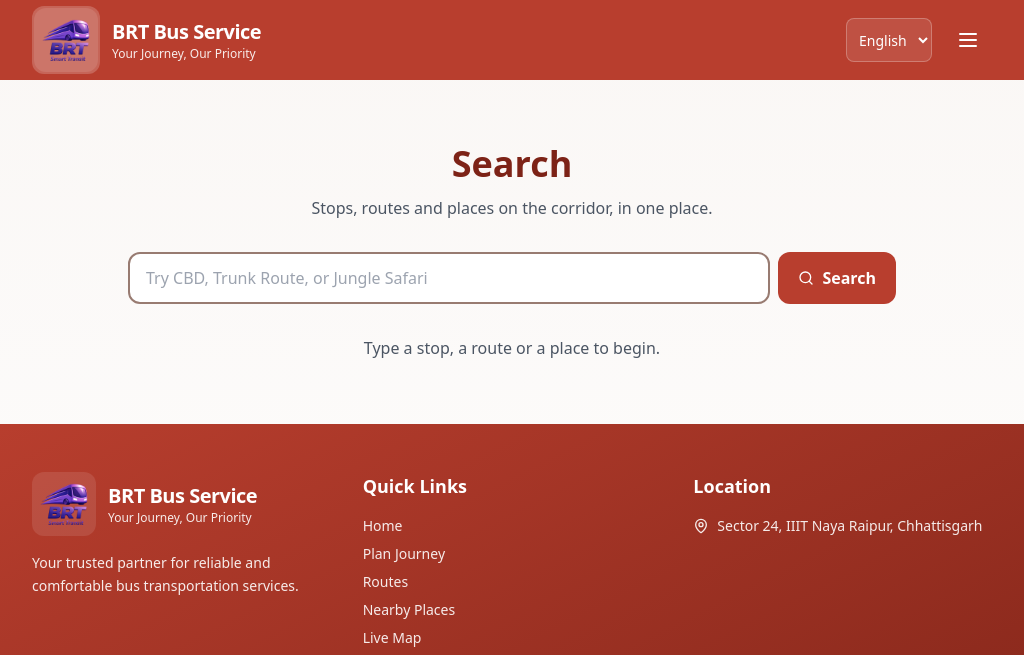
Test: looking for something › runs a search typed into the box
Type "Trunk" into the search field named "Search stops, routes and places".
click(449, 278); type("Trunk")  # box [128, 252, 770, 304]
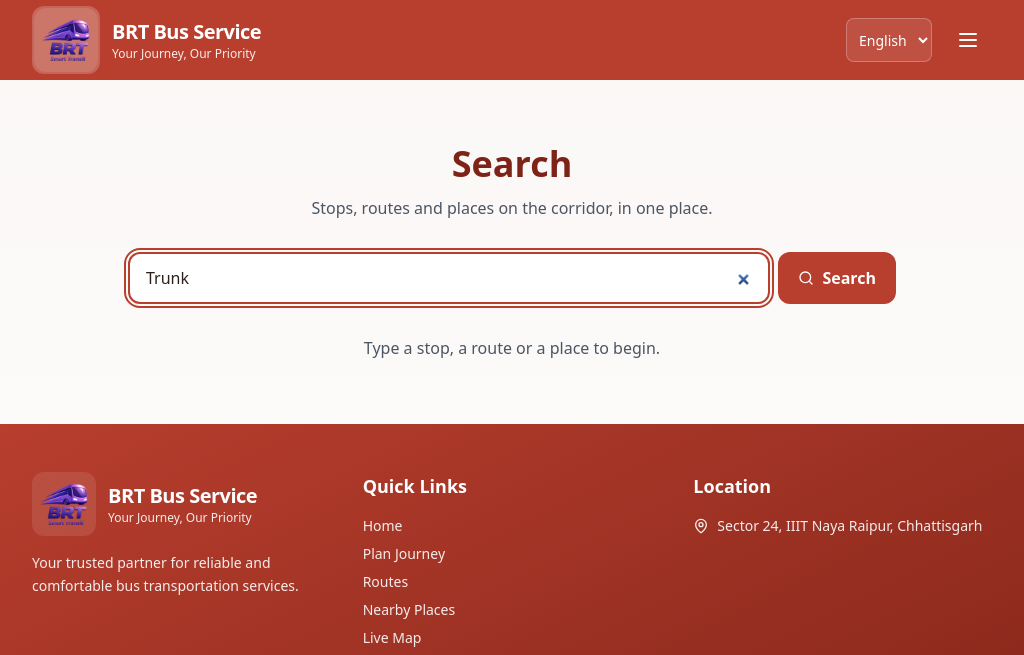
Click the button "Search".
click(837, 278)  # box [778, 252, 896, 304]
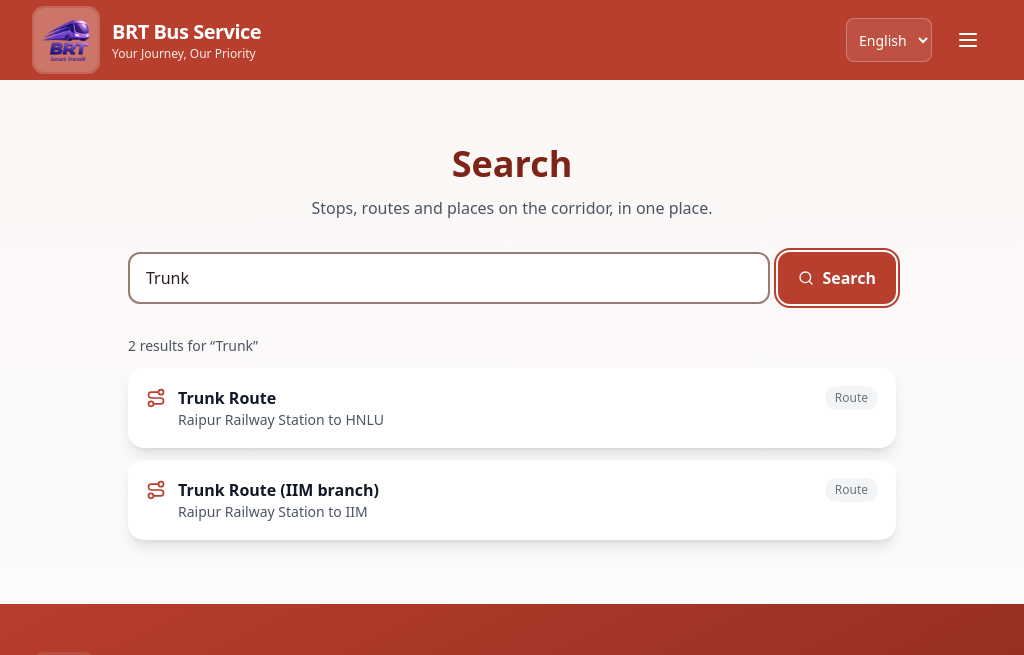
expect the text "Trunk Route" is shown: met, box [177, 386, 276, 409]
